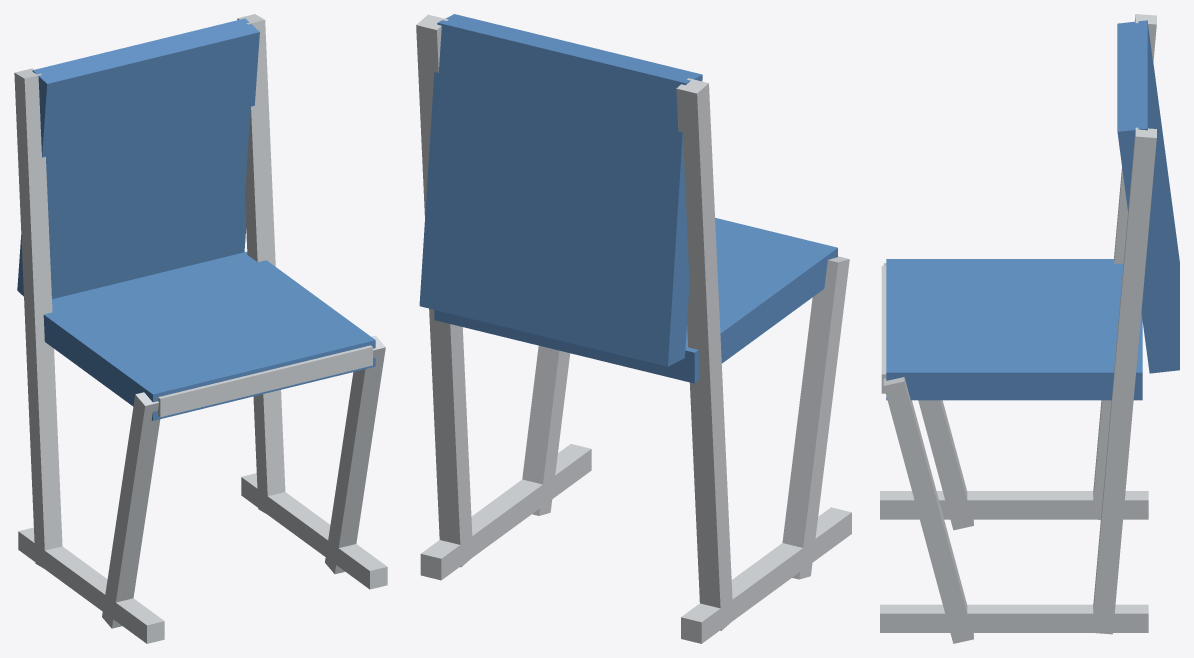
The model's file is hot-air-balloon-festival-folding-camp-chair-ba5bb3d0.glb.
The picture shows the model from 3 angles, left to right: view 1: azimuth 30°, elevation 25°; view 2: azimuth 150°, elevation 25°; view 3: azimuth 270°, elevation 25°; orthographic projection. The views are drawn at different scales.
Parts seen in each view (by area): view 1: folding-camp-chair-canvasC, folding-camp-chair-steel; view 2: folding-camp-chair-canvasC, folding-camp-chair-steel; view 3: folding-camp-chair-canvasC, folding-camp-chair-steel.
Part boxes in pixels (x1,y1,x2,y2): folding-camp-chair-canvasC: (17,18,375,420); folding-camp-chair-steel: (14,14,387,643); folding-camp-chair-canvasC: (419,14,837,383); folding-camp-chair-steel: (416,14,851,643); folding-camp-chair-canvasC: (886,20,1179,400); folding-camp-chair-steel: (880,14,1156,643).
Size of the model in its own units: 0.475 by 0.9187 by 0.4912.
